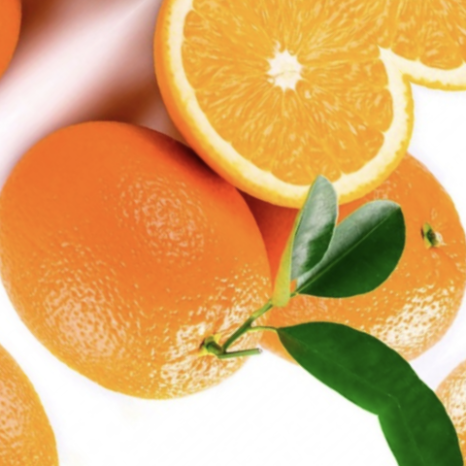orange: (0, 41, 362, 466), (133, 57, 466, 453)
